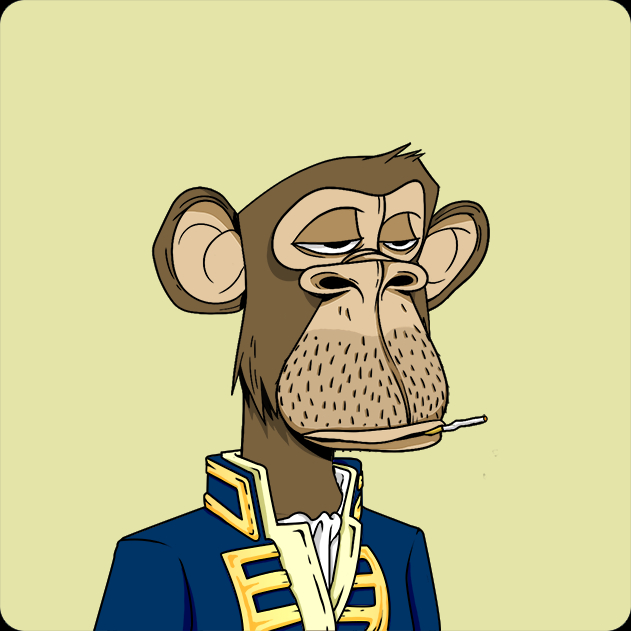Dress: (54, 432, 468, 631)
Eyes: (278, 191, 439, 265)
Head: (146, 142, 491, 202)
Mouth: (258, 378, 484, 468)
